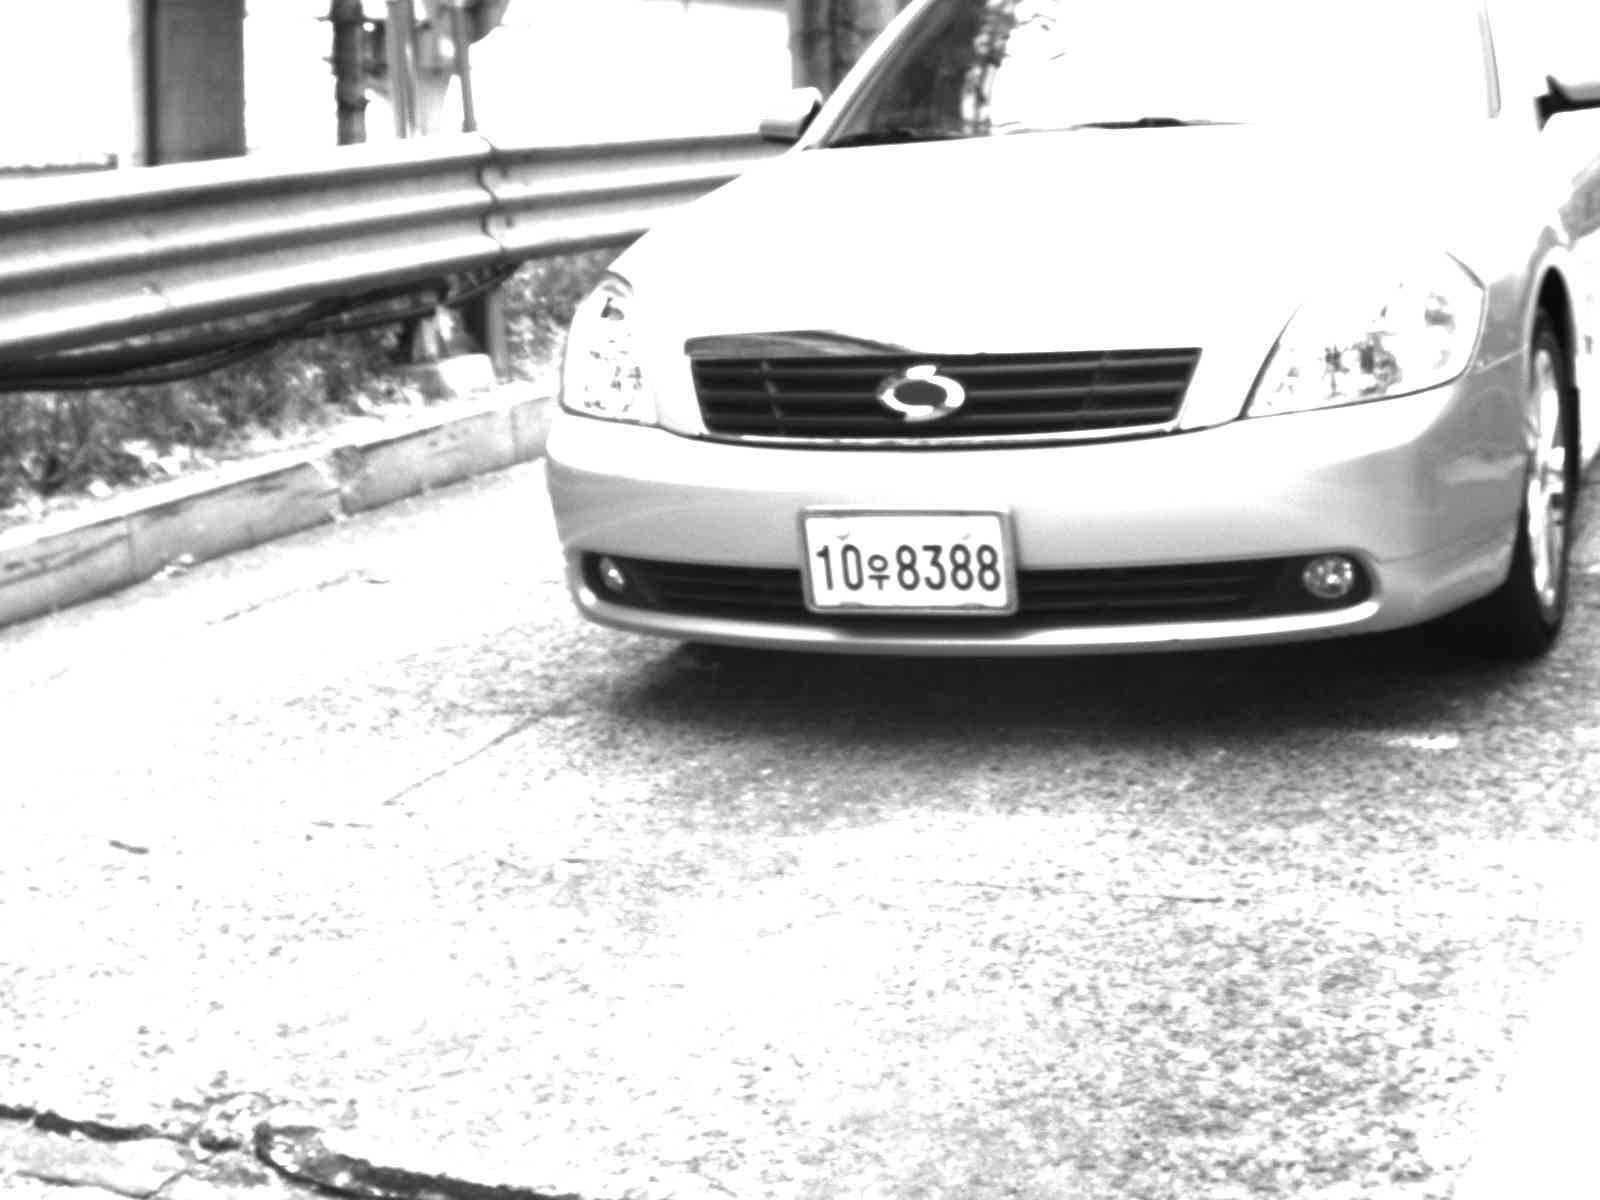P2_10우8388: (794, 512, 1021, 614)
우: (866, 549, 894, 594)
